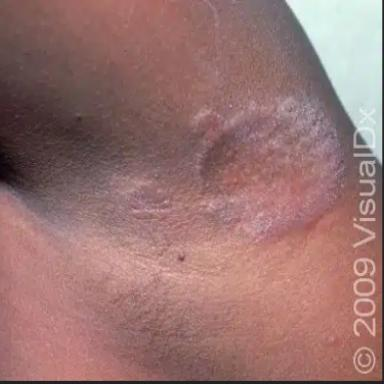Tinea-Corporis: (190, 89, 349, 241)
